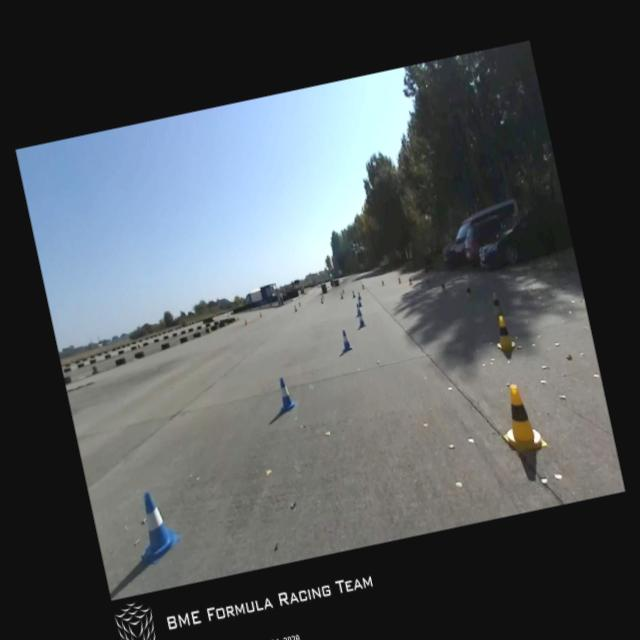blue_cone: (129, 487, 184, 566), (273, 375, 298, 412), (338, 328, 354, 352), (355, 310, 366, 328), (353, 302, 362, 316), (357, 296, 362, 306), (357, 290, 361, 300), (351, 290, 355, 297)
yellow_cone: (492, 380, 550, 456), (490, 314, 517, 352), (488, 290, 503, 316), (462, 280, 476, 302), (438, 279, 446, 293), (424, 277, 430, 288), (396, 276, 402, 284), (407, 276, 412, 284)
